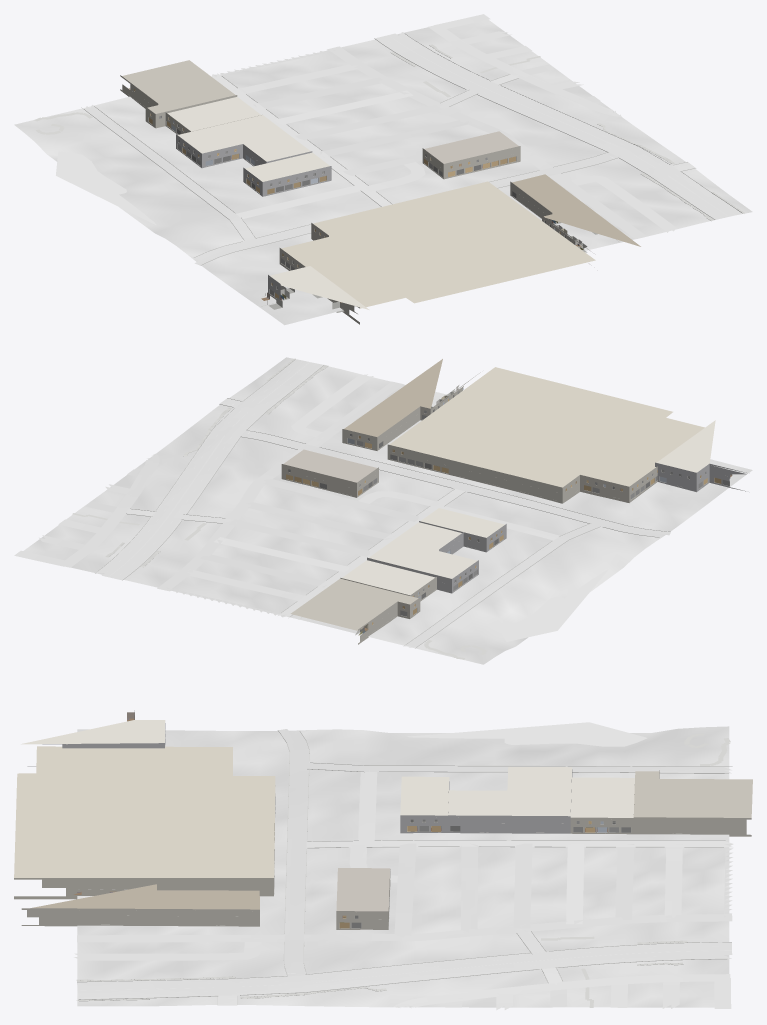
3 renders of one model, top to bottom at view 1: azimuth 30°, elevation 25°; view 2: azimuth 150°, elevation 25°; view 3: azimuth 270°, elevation 25°, orthographic. The views are drawn at different scales.
Visible parts, largest first — view 1: ground, roof_flat, concrete, asphalt, wall_com, water, curb, walk, glass_lit, glass, room; view 2: ground, roof_flat, concrete, wall_com, asphalt, curb, water, walk, glass, glass_lit; view 3: ground, roof_flat, concrete, asphalt, wall_com, curb, water, walk, mark_w.
Boxes of the visible parts, x1,y1,x2,y2 form: ground: (14,19,752,325); roof_flat: (122,60,640,309); concrete: (85,14,676,240); asphalt: (194,32,741,265); wall_com: (120,75,589,324); water: (56,151,156,224); curb: (81,33,742,265); walk: (34,44,744,220); glass_lit: (134,89,575,298); glass: (159,116,570,296); room: (129,88,597,312); ground: (23,357,752,664); roof_flat: (283,359,715,630); concrete: (14,374,600,647); wall_com: (281,372,746,644); asphalt: (95,359,670,579); curb: (95,359,670,648); water: (502,569,608,641); walk: (72,358,486,659); glass: (288,391,729,616); glass_lit: (286,388,721,624); ground: (77,726,729,1007); roof_flat: (14,720,752,911); concrete: (74,763,733,1010); asphalt: (77,729,732,1005); wall_com: (14,710,751,929); curb: (77,730,732,1004); water: (407,722,647,746); walk: (76,733,730,1007); mark_w: (79,942,727,999).
Size of the model in its own units: 264 by 11.24 by 283.
